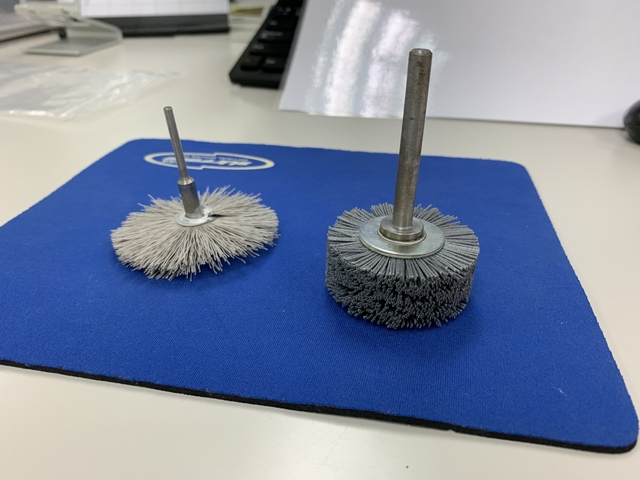TOOL: (98, 97, 293, 289)
Wheel Brush: (322, 44, 496, 346)
